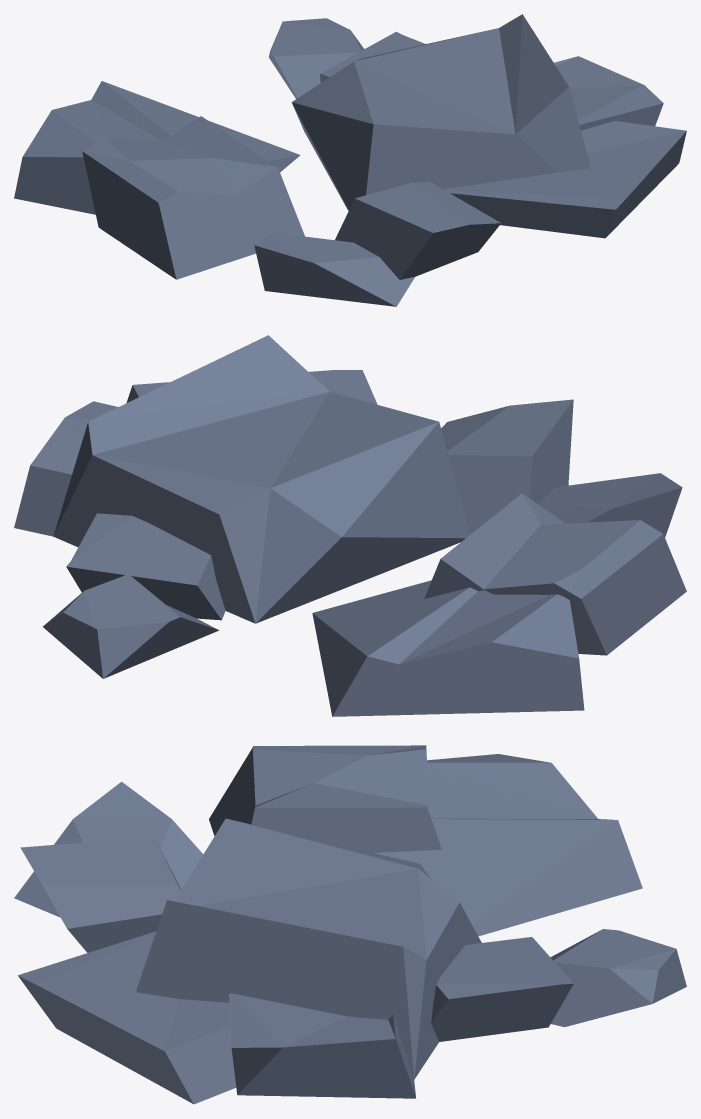
Rendered from resource_stone3_empty.fbx.
3 views of the same model, one above another, from view 1: azimuth 30°, elevation 25°; view 2: azimuth 150°, elevation 25°; view 3: azimuth 270°, elevation 25° (orthographic). The views are drawn at different scales.
Parts seen in each view (by area): view 1: resource_stone3_empty; view 2: resource_stone3_empty; view 3: resource_stone3_empty.
Part boxes in pixels (box(x1,y1,x2,y2)): resource_stone3_empty: box(14, 14, 686, 306); resource_stone3_empty: box(14, 335, 686, 716); resource_stone3_empty: box(14, 745, 686, 1104).
Size of the model in its own units: 183 by 37.64 by 169.
